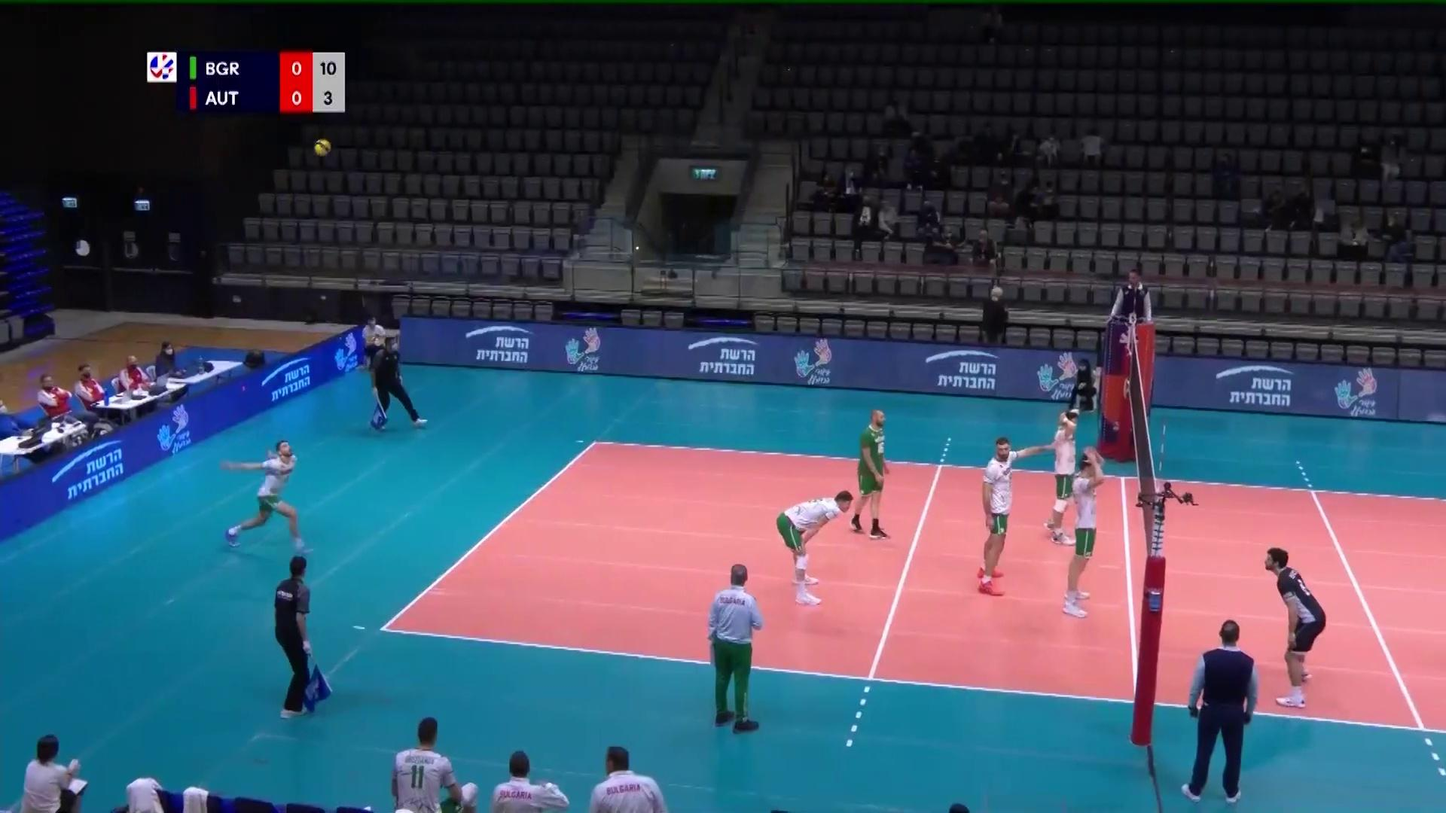ball: (311, 138, 335, 160)
